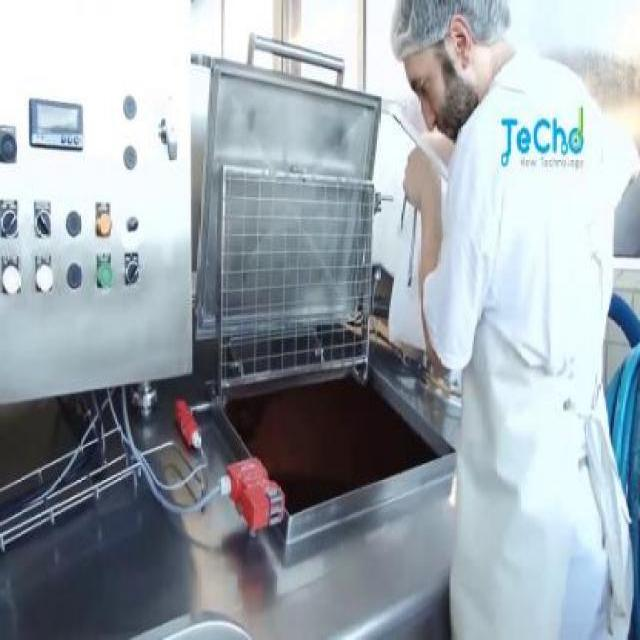hairnet: (391, 0, 512, 42)
